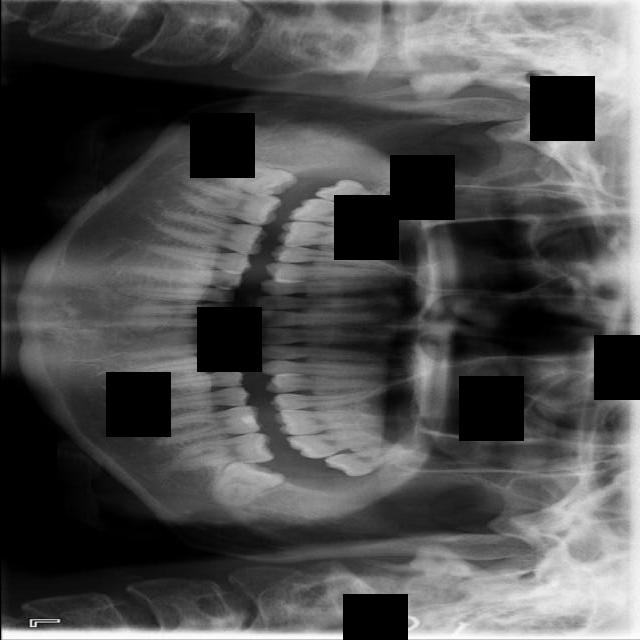3M ESPE Implant: (313, 171, 410, 219)
52: (227, 404, 263, 437)
73: (40, 596, 56, 599)
BioHorizons Implant: (284, 424, 386, 462)
BioLife Implant: (321, 443, 415, 481)
Biomet 3i Implant: (206, 452, 286, 521)
Blue Sky Bio Implant: (161, 431, 275, 472)
Caries: (288, 196, 394, 230)
Implant: (179, 178, 284, 230)
Keystone Dental Implant: (208, 152, 299, 207)
